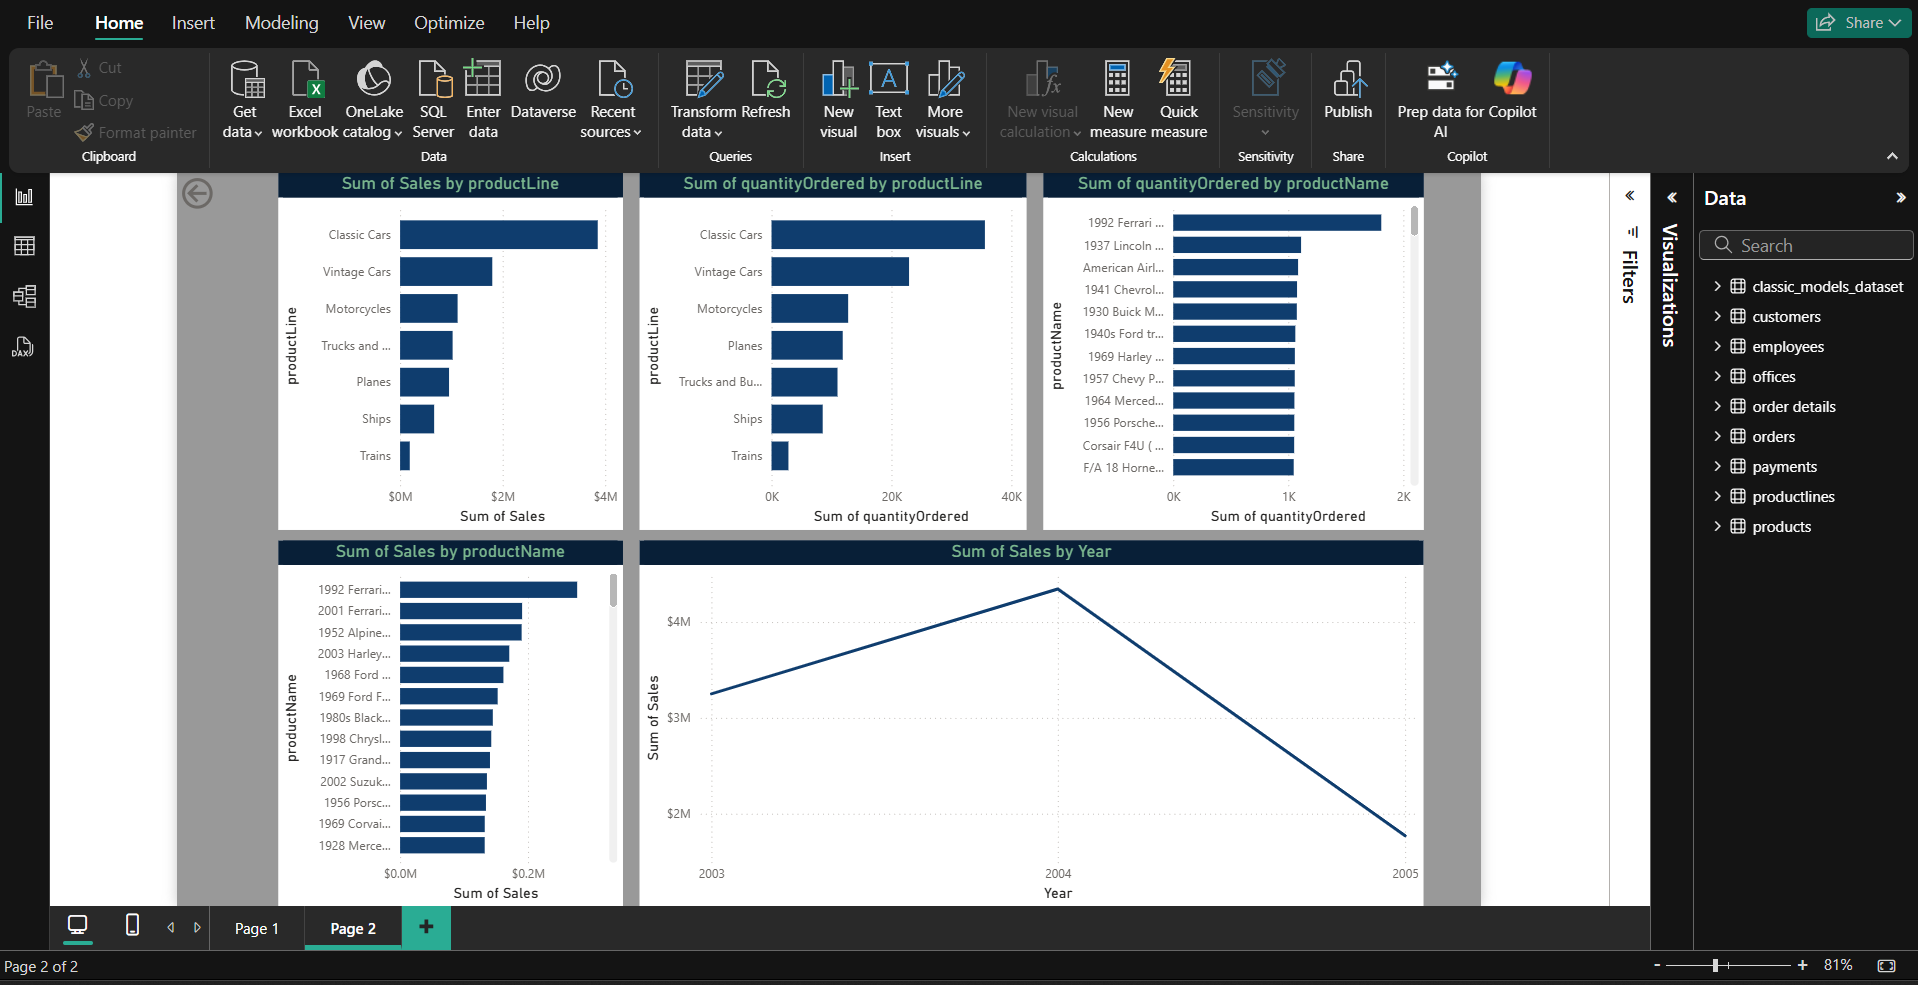

Layout of this report page (visuals, bound fields, positions):
{"tool":"powerbi","page":{"name":"Page 2","canvas":[1280,720],"ordinal":1},"visuals":[{"type":"actionButton","box":[0,0,100,40],"z":0},{"type":"barChart","fields":{"Y":["Sum(order details.Sales)"],"Category":["productlines.productLine"]},"box":[100,0,338.2,350],"z":1000},{"type":"barChart","fields":{"Category":["products.productName"],"Y":["Sum(order details.quantityOrdered)"]},"box":[850,0,373.7,350],"z":2000},{"type":"barChart","fields":{"Y":["Sum(order details.Sales)"],"Category":["products.productName"]},"box":[100,360.5,338.2,359.2],"z":3000},{"type":"barChart","fields":{"Category":["productlines.productLine"],"Y":["Sum(order details.quantityOrdered)"]},"box":[453.9,0,380.3,350],"z":4000},{"type":"lineChart","fields":{"Y":["Sum(order details.Sales)"],"Category":["orders.orderDate.Variation.Date Hierarchy.Year","orders.orderDate.Variation.Date Hierarchy.Quarter","orders.orderDate.Variation.Date Hierarchy.Month","orders.orderDate.Variation.Date Hierarchy.Day"]},"box":[453.9,360.5,769.7,359.2],"z":5000}]}

Visuals, with their boxes on the page's 1280x720 design canvas (x1, y1, x2, y2). These are canvas units, not pixel positions in the 1918x985 screenshot, which may show the page scaled, cropped or inside an application window:
actionButton: [left=0, top=0, right=100, bottom=40]
barChart - Sum(order details.Sales) x productlines.productLine: [left=100, top=0, right=438, bottom=350]
barChart - products.productName x Sum(order details.quantityOrdered): [left=850, top=0, right=1224, bottom=350]
barChart - Sum(order details.Sales) x products.productName: [left=100, top=360, right=438, bottom=720]
barChart - productlines.productLine x Sum(order details.quantityOrdered): [left=454, top=0, right=834, bottom=350]
lineChart - Sum(order details.Sales) x orders.orderDate.Variation.Date Hierarchy.Year: [left=454, top=360, right=1224, bottom=720]
